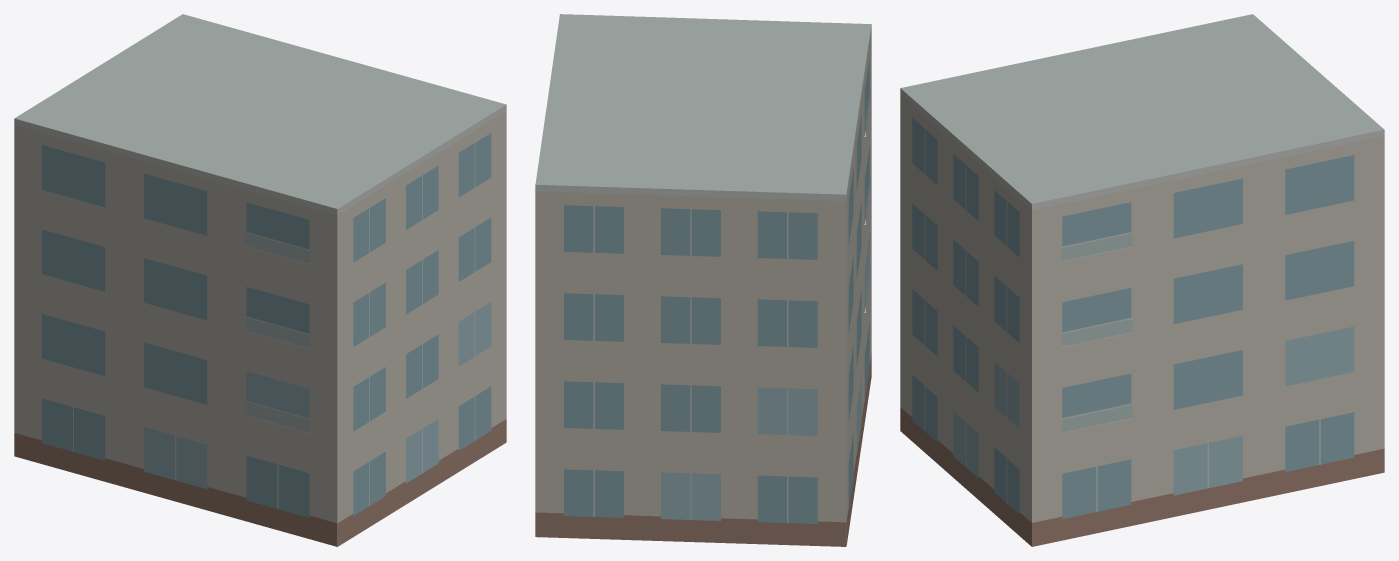
Rendered from survey-upis-32698369.glb.
3 renders of one model, left to right at view 1: azimuth 30°, elevation 25°; view 2: azimuth 150°, elevation 25°; view 3: azimuth 270°, elevation 25°, orthographic. The views are drawn at different scales.
Visible parts, largest first — view 1: survey-upis-32698369.tmp; view 2: survey-upis-32698369.tmp; view 3: survey-upis-32698369.tmp.
Part boxes in pixels (<box>): survey-upis-32698369.tmp: <box>14,14,506,546</box>; survey-upis-32698369.tmp: <box>535,14,871,546</box>; survey-upis-32698369.tmp: <box>900,14,1384,546</box>.
Size of the model in its own units: 15.69 by 13.2 by 16.9.
